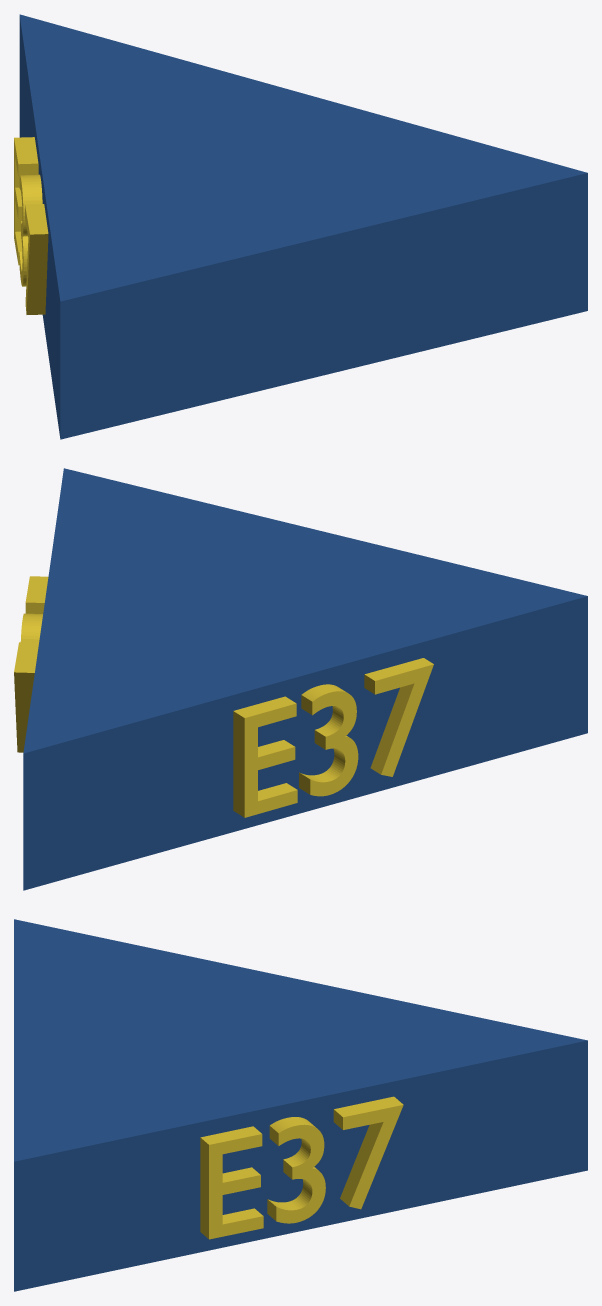
The picture shows the model from 3 angles, top to bottom: view 1: azimuth 30°, elevation 25°; view 2: azimuth 150°, elevation 25°; view 3: azimuth 270°, elevation 25°; orthographic projection. The views are drawn at different scales.
Visible parts, largest first — view 1: Cube, Text.001; view 2: Cube, Text.001, Text; view 3: Cube, Text.
Part boxes in pixels (x1,y1,x2,y2): Cube: [19, 14, 587, 439]; Text.001: [14, 137, 48, 314]; Cube: [23, 468, 587, 890]; Text.001: [233, 658, 433, 817]; Text: [14, 576, 48, 752]; Cube: [14, 919, 587, 1291]; Text: [200, 1096, 403, 1239].
Size of the model in its own units: 63.36 by 15.84 by 63.36.
